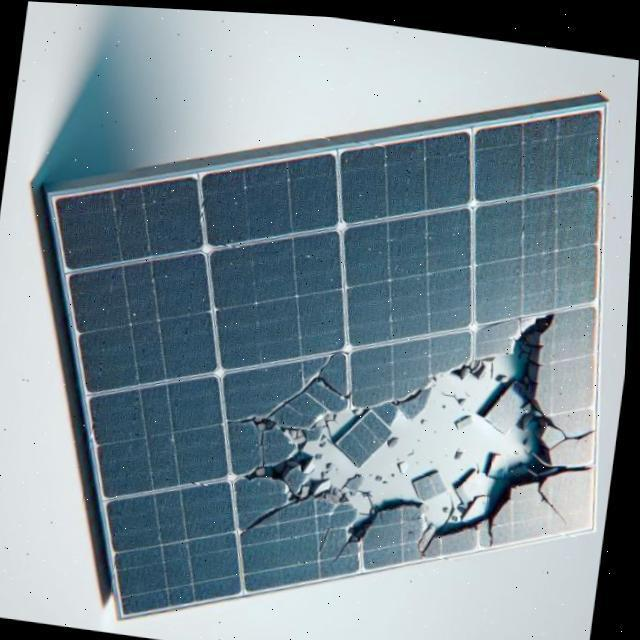Anomaly Solar Panel: (54, 99, 632, 615)
Structural Damage: (215, 276, 618, 607), (255, 341, 364, 415), (238, 491, 304, 535), (540, 481, 575, 518), (550, 419, 600, 443), (322, 521, 337, 548), (335, 536, 351, 561), (491, 512, 500, 540)
